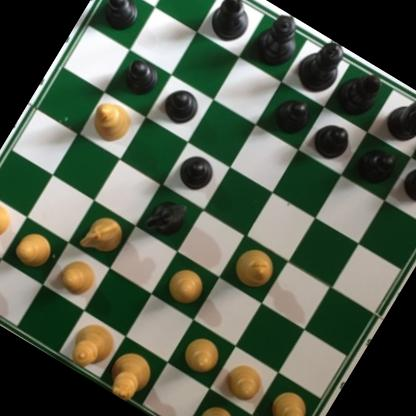black-bishop: (328, 59, 388, 121), (203, 0, 262, 50)
black-king: (289, 32, 352, 99)
black-knight: (139, 188, 195, 245), (380, 86, 416, 151)
black-pawn: (156, 78, 209, 130), (170, 145, 222, 197), (264, 91, 315, 142), (348, 140, 398, 191), (305, 115, 353, 164), (117, 48, 165, 96), (89, 0, 146, 38), (398, 157, 416, 208)
black-queen: (243, 4, 308, 73)
black-rook: (414, 107, 416, 177)
white-bishop: (225, 235, 284, 294), (83, 95, 139, 150)
white-king: (97, 341, 160, 406)
white-knight: (77, 205, 132, 262), (187, 398, 243, 416)
white-pawn: (6, 223, 61, 278), (177, 329, 230, 382), (159, 262, 211, 313), (51, 251, 103, 301), (217, 358, 268, 407), (260, 381, 315, 416), (0, 189, 22, 248)
white-queen: (59, 312, 123, 379)
